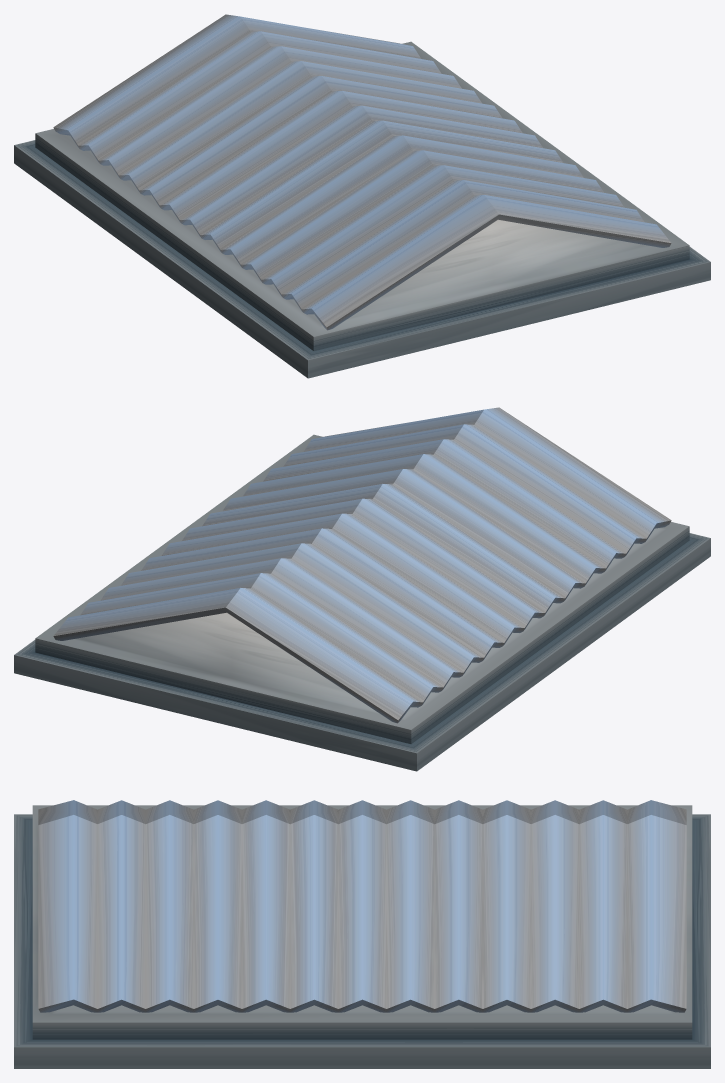
Rendered from Garage_roof.fbx.
3 renders of one model, top to bottom at view 1: azimuth 30°, elevation 25°; view 2: azimuth 150°, elevation 25°; view 3: azimuth 270°, elevation 25°, orthographic. The views are drawn at different scales.
Visible parts, largest first — view 1: polySurface5; view 2: polySurface5; view 3: polySurface5.
Boxes of the visible parts, bbox=[...] form: polySurface5: bbox=[14, 14, 710, 378]; polySurface5: bbox=[14, 407, 710, 771]; polySurface5: bbox=[14, 800, 710, 1068].
Bounding box in the file's own units: 1639 × 451 × 2071.
